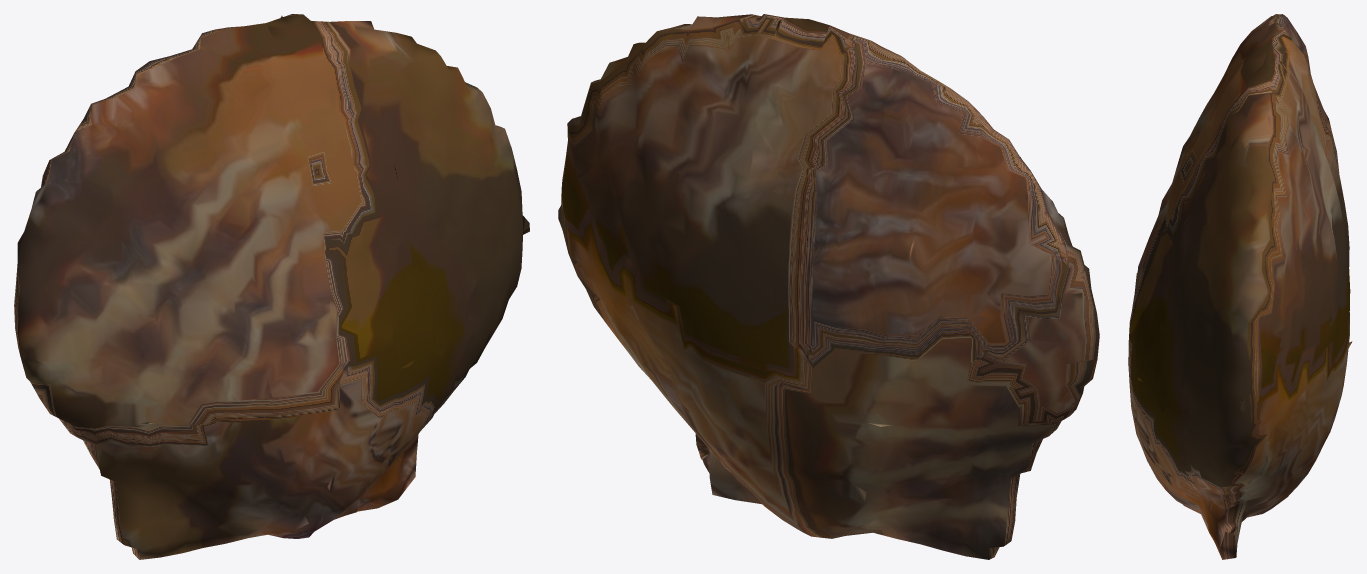
Rendered from scallop-02.glb.
3 renders of one model, left to right at view 1: azimuth 30°, elevation 25°; view 2: azimuth 150°, elevation 25°; view 3: azimuth 270°, elevation 25°, orthographic. The views are drawn at different scales.
Visible parts, largest first — view 1: scallop-02; view 2: scallop-02; view 3: scallop-02.
Part boxes in pixels (bbox=[...]): scallop-02: bbox=[14, 14, 529, 559]; scallop-02: bbox=[558, 14, 1099, 559]; scallop-02: bbox=[1128, 14, 1352, 559].
Bounding box in the file's own units: 0.12 × 0.111 × 0.0482.
1 material, 1 textured.
